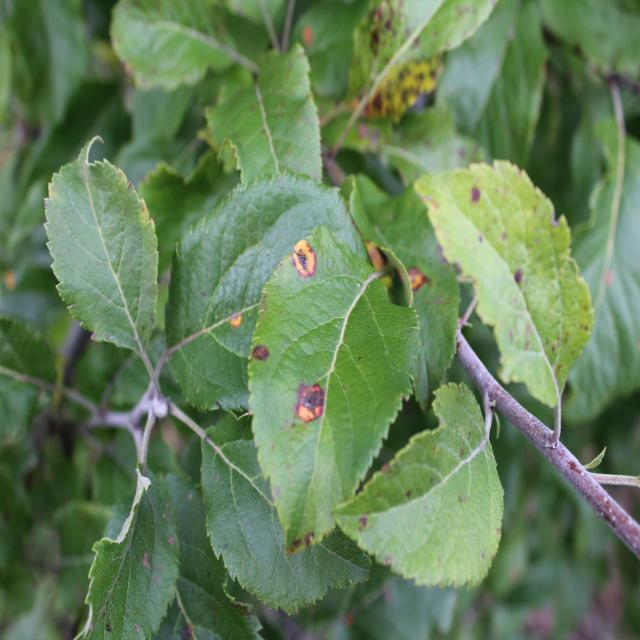Rust: (287, 231, 335, 283), (288, 379, 327, 436), (404, 253, 428, 301), (249, 342, 273, 366), (226, 312, 248, 331)
